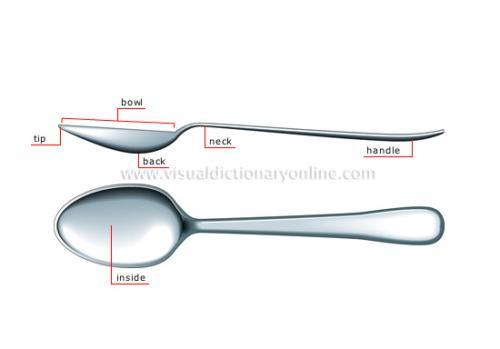Spoon: (54, 184, 446, 268), (57, 120, 444, 155)
